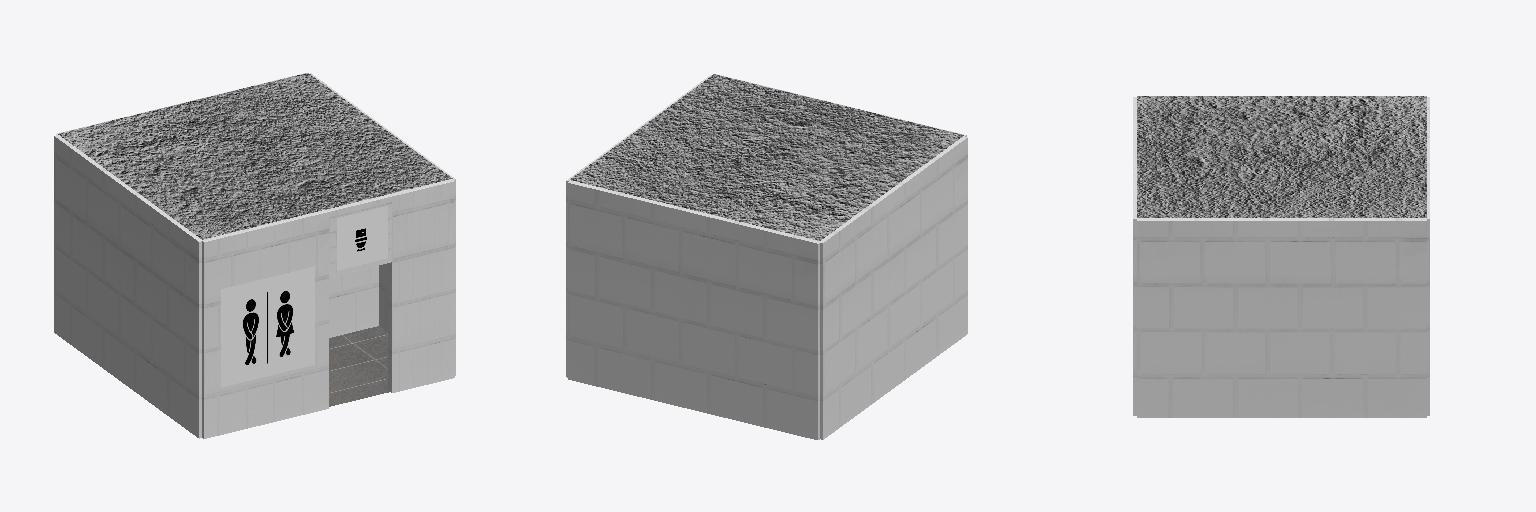
3 renders of one model, left to right at view 1: azimuth 30°, elevation 25°; view 2: azimuth 150°, elevation 25°; view 3: azimuth 270°, elevation 25°, orthographic.
Visible parts, largest first — view 1: techo, paredUno, paredIzq, paredDer, iconoBanio, piso, paredDivision, wc, complemento, paredDos; view 2: paredTres, techo, paredUno, paredDos; view 3: paredDos, techo, paredTres, paredDer.
Part boxes in pixels (bbox=[...]): techo: bbox=[58, 73, 452, 239]; paredUno: bbox=[54, 135, 203, 438]; paredIzq: bbox=[202, 210, 328, 438]; paredDer: bbox=[388, 179, 454, 392]; iconoBanio: bbox=[221, 266, 314, 387]; piso: bbox=[329, 326, 388, 406]; paredDivision: bbox=[329, 265, 378, 337]; wc: bbox=[337, 206, 387, 270]; complemento: bbox=[327, 194, 391, 276]; paredDos: bbox=[310, 73, 455, 375]; paredTres: bbox=[568, 181, 819, 439]; techo: bbox=[570, 74, 963, 240]; paredUno: bbox=[817, 136, 967, 439]; paredDos: bbox=[566, 75, 711, 377]; paredDos: bbox=[1137, 218, 1426, 417]; techo: bbox=[1137, 96, 1426, 217]; paredTres: bbox=[1423, 97, 1429, 415]; paredDer: bbox=[1133, 189, 1140, 415].
Bounding box in the file's own units: 41 × 30.2 × 41.5.
Materials: 5 (5 with a texture image).